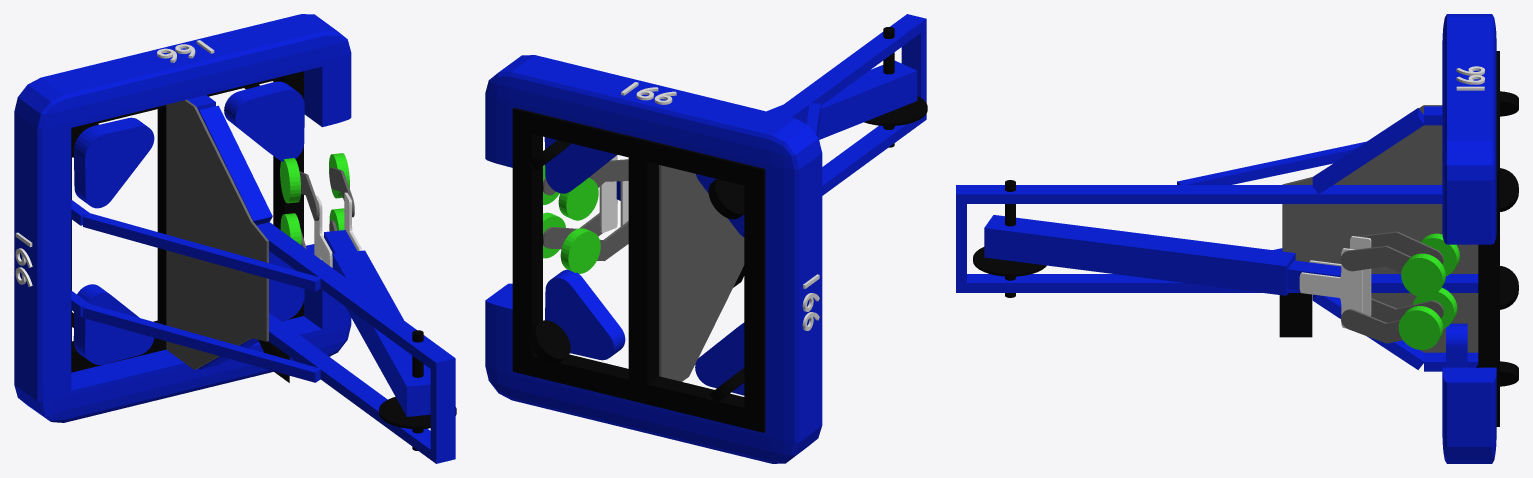
The model's file is Robot_FrostBite.glb.
3 views of the same model, side by side, from view 1: azimuth 30°, elevation 25°; view 2: azimuth 150°, elevation 25°; view 3: azimuth 270°, elevation 25° (orthographic). The views are drawn at different scales.
Parts seen in each view (by area): view 1: Cube.002, Cylinder.001, Cube.001; view 2: Cube.002, Cube.001, Cylinder.001; view 3: Cube.002, Cylinder.001, Cube.001.
Part boxes in pixels (<box>): Cube.002: <box>14,14,455,463</box>; Cylinder.001: <box>332,250,456,450</box>; Cube.001: <box>280,153,362,267</box>; Cube.002: <box>485,14,926,463</box>; Cube.001: <box>543,155,628,273</box>; Cylinder.001: <box>767,27,927,147</box>; Cube.002: <box>956,14,1518,463</box>; Cylinder.001: <box>973,180,1295,297</box>; Cube.001: <box>1287,231,1459,349</box>.
Bounding box in the file's own units: 0.8318 × 0.8372 × 1.31.
